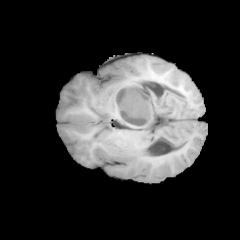glioma: (109, 83, 155, 129)
